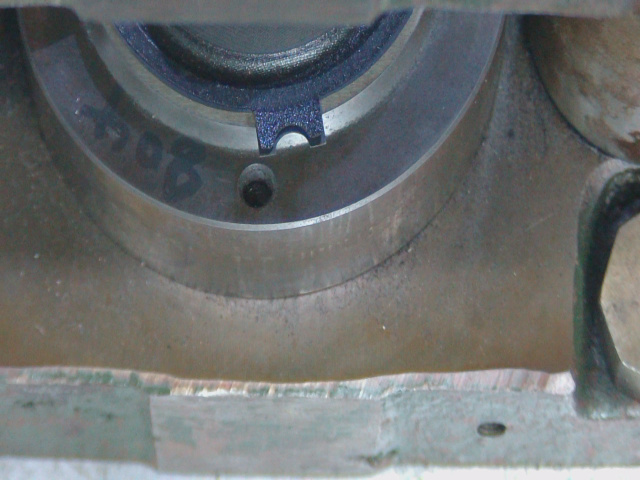HX2: (257, 97, 334, 165)
